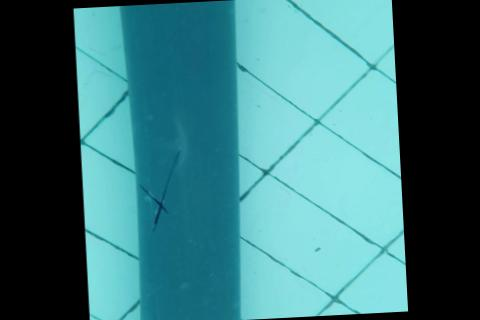keretakan: (136, 150, 185, 232)
